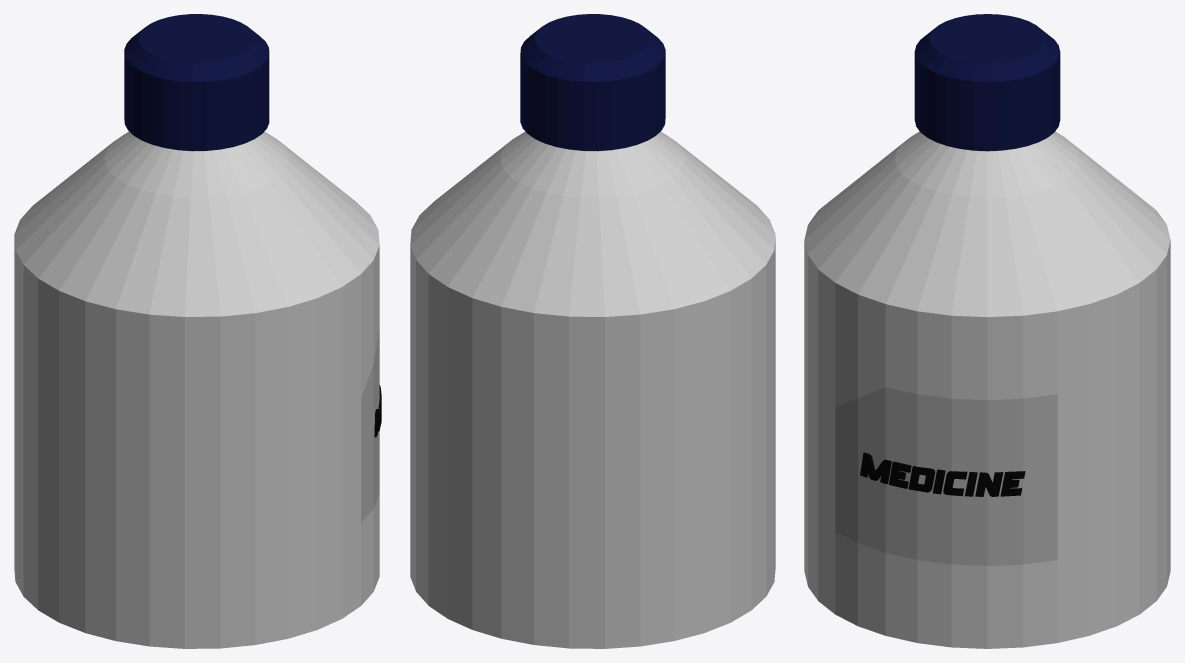
File: Pill.obj
The picture shows the model from 3 angles, left to right: view 1: azimuth 30°, elevation 25°; view 2: azimuth 150°, elevation 25°; view 3: azimuth 270°, elevation 25°; orthographic projection.
Visible parts, largest first — view 1: Bottle; view 2: Bottle; view 3: Bottle.
Part boxes in pixels (<box>): Bottle: <box>14,14,381,648</box>; Bottle: <box>410,14,775,648</box>; Bottle: <box>804,14,1170,648</box>.
Bounding box in the file's own units: 2.01 × 3.21 × 2.
